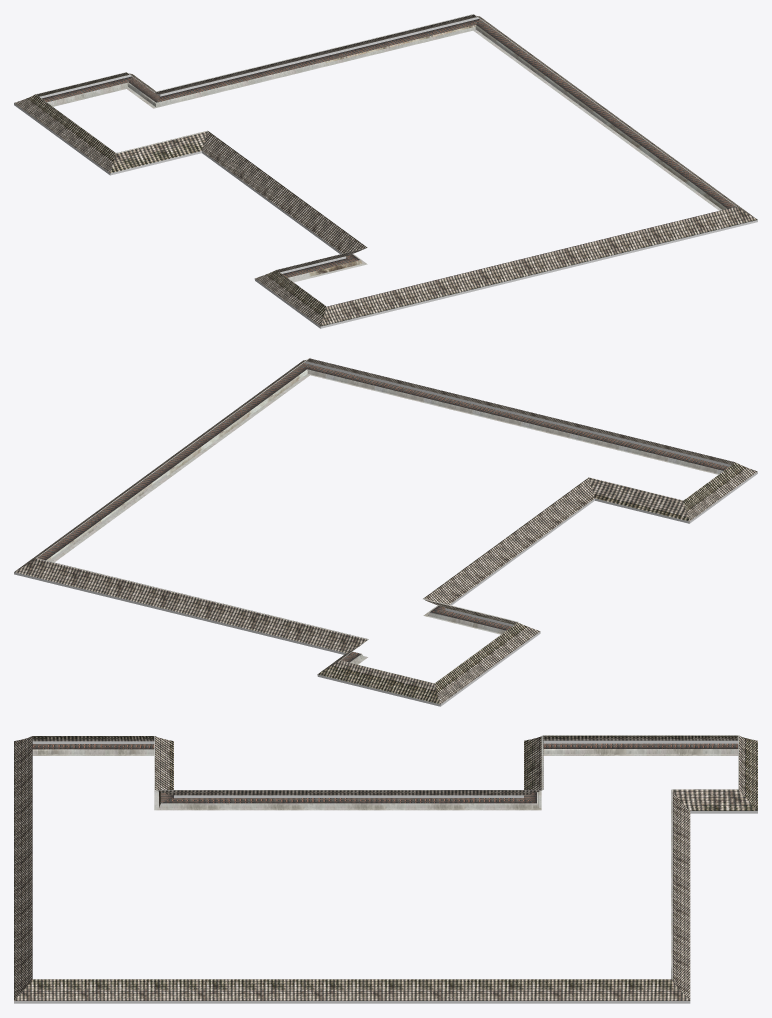
The model's file is Loft01.obj.
The picture shows the model from 3 angles, top to bottom: view 1: azimuth 30°, elevation 25°; view 2: azimuth 150°, elevation 25°; view 3: azimuth 270°, elevation 25°; orthographic projection. The views are drawn at different scales.
Parts seen in each view (by area): view 1: Loft01; view 2: Loft01; view 3: Loft01.
Boxes of the visible parts, x1,y1,x2,y2 form: Loft01: [14, 14, 757, 328]; Loft01: [14, 358, 757, 706]; Loft01: [14, 735, 757, 1003].
Size of the model in its own units: 780 by 28.41 by 943.
